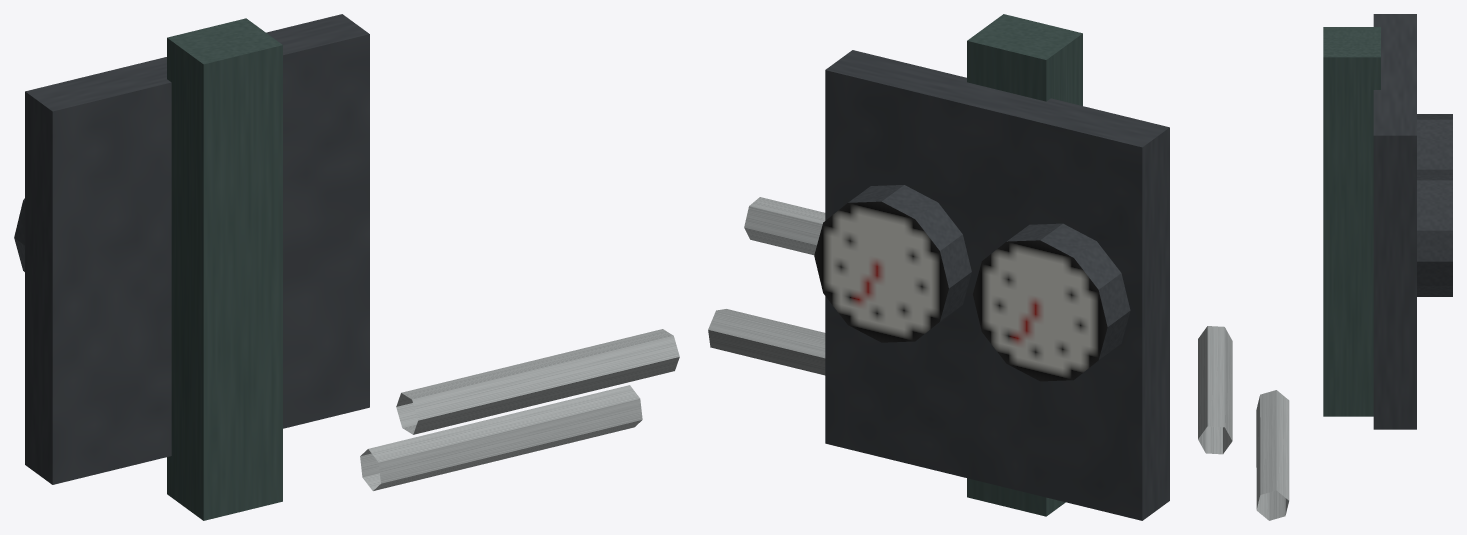
The model's file is cell_25.obj.
3 renders of one model, left to right at view 1: azimuth 30°, elevation 25°; view 2: azimuth 150°, elevation 25°; view 3: azimuth 270°, elevation 25°, orthographic. The views are drawn at different scales.
Size of the model in its own units: 0.65 by 0.55 by 0.354.
